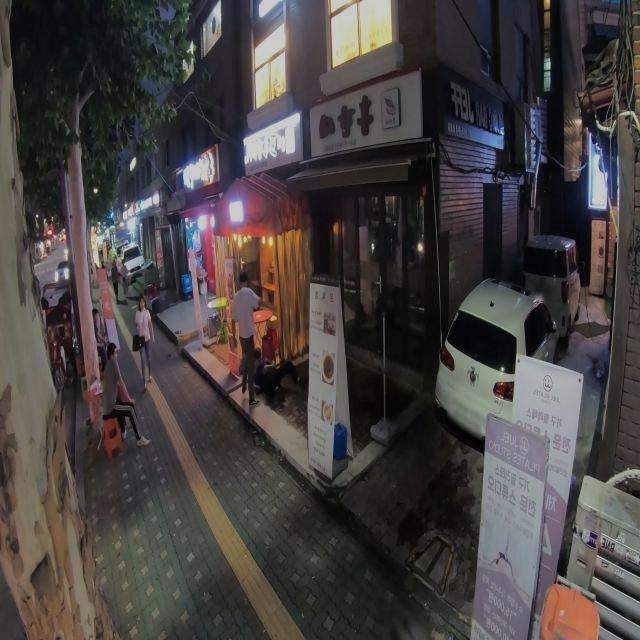fight: (228, 273, 304, 407)
non-fight: (102, 345, 150, 447), (134, 296, 155, 386)
